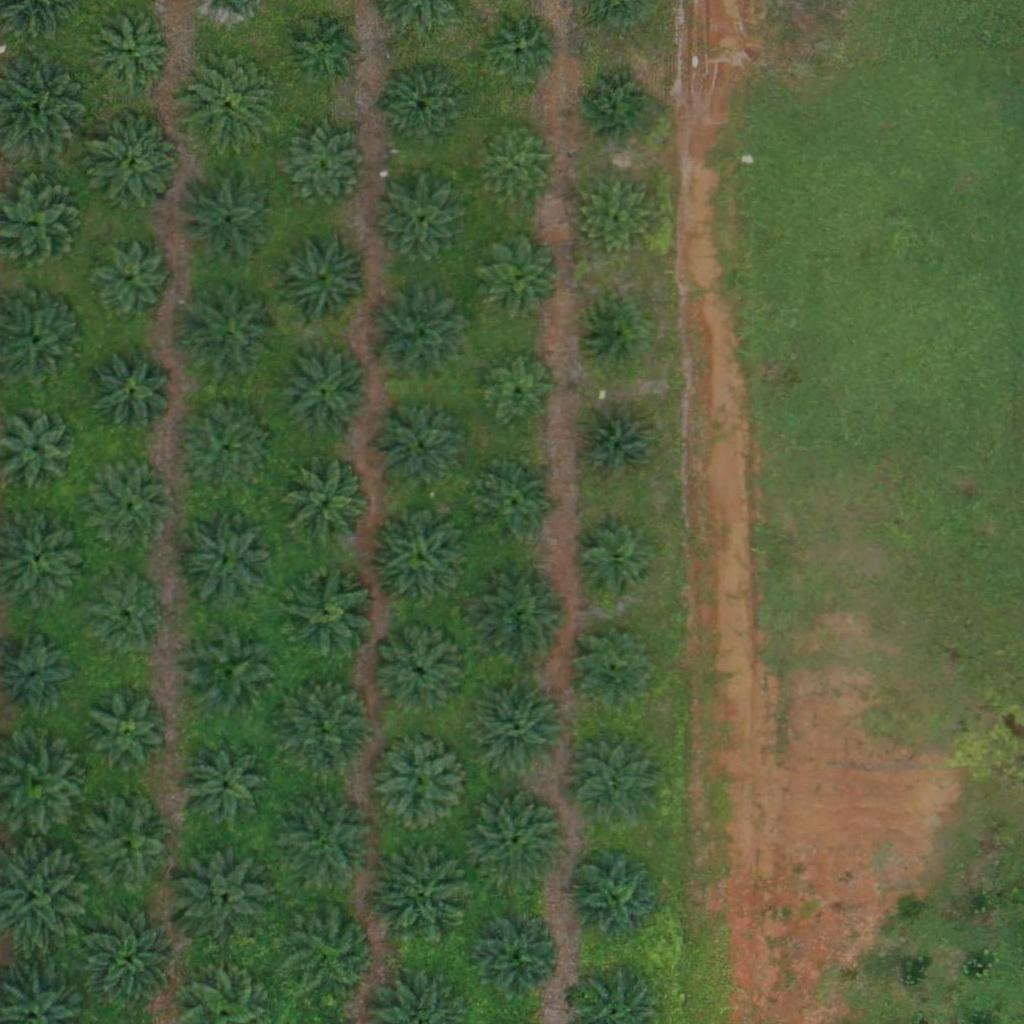Kelapa_Sawit: (183, 52, 283, 153), (366, 286, 466, 387), (271, 117, 371, 218), (271, 227, 371, 328), (177, 167, 277, 268), (180, 620, 280, 721), (275, 673, 375, 774), (280, 794, 380, 895), (371, 733, 471, 834), (370, 844, 470, 945), (473, 678, 573, 779), (466, 789, 566, 890), (565, 848, 665, 949), (469, 567, 569, 667), (369, 506, 469, 606), (275, 563, 375, 663), (180, 283, 280, 383), (175, 510, 275, 610), (85, 111, 185, 211), (76, 794, 176, 894), (174, 842, 274, 942), (283, 903, 383, 1003), (381, 64, 469, 153), (377, 629, 465, 718), (280, 4, 368, 92), (571, 522, 659, 610), (474, 459, 562, 547), (376, 178, 464, 266), (375, 403, 463, 491), (88, 240, 176, 328), (182, 743, 270, 831), (471, 913, 559, 1001), (472, 231, 559, 319), (575, 403, 662, 491), (280, 351, 367, 439), (283, 462, 370, 550), (183, 411, 270, 499), (88, 914, 175, 1002), (571, 623, 658, 711), (571, 738, 658, 826), (95, 14, 170, 90), (97, 357, 172, 433), (95, 468, 170, 544), (92, 691, 167, 767), (485, 15, 560, 90), (483, 357, 558, 432), (575, 178, 650, 253), (582, 70, 657, 145), (477, 126, 552, 201), (87, 583, 162, 658), (580, 301, 643, 364)
